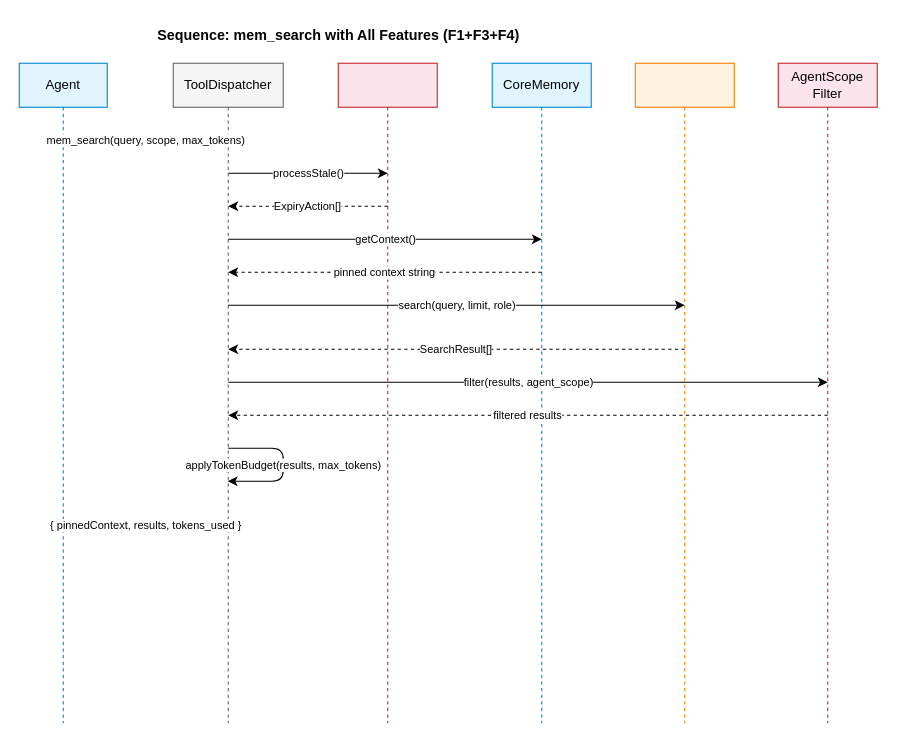
Some shapes in this 897 by 743 pixel diagram are drawn without their labels. Here are the shapes that lost their labels. From the top down, the box of each, then its label:
(337, 62, 437, 723): WorkingTier Expiry
(634, 62, 734, 723): HybridSearch
